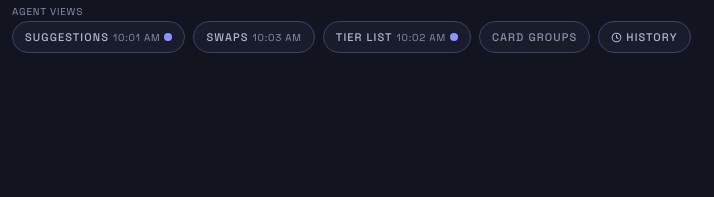
Scenario: the popover lists the session’s pushes, newest first › renders one real <button> per push, newest first, kind + title + time
Click the button "History" at (645, 37), box [598, 21, 691, 53]
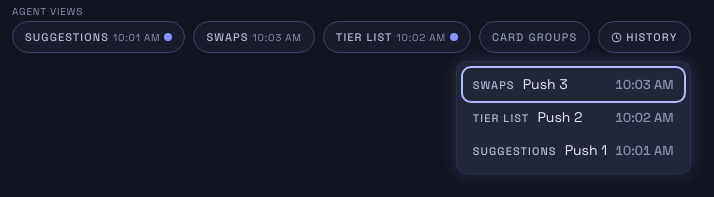
expect the text with class "agent-views-nav-entry-kind" reads "Swaps": met, box [473, 78, 515, 92]
